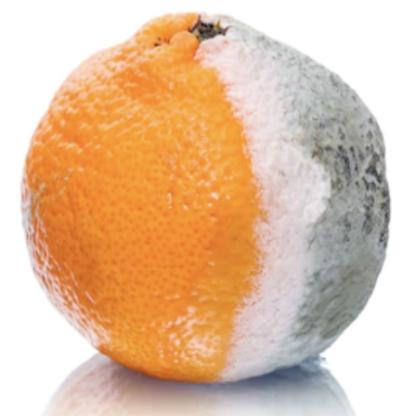rotten: (20, 12, 391, 382)
